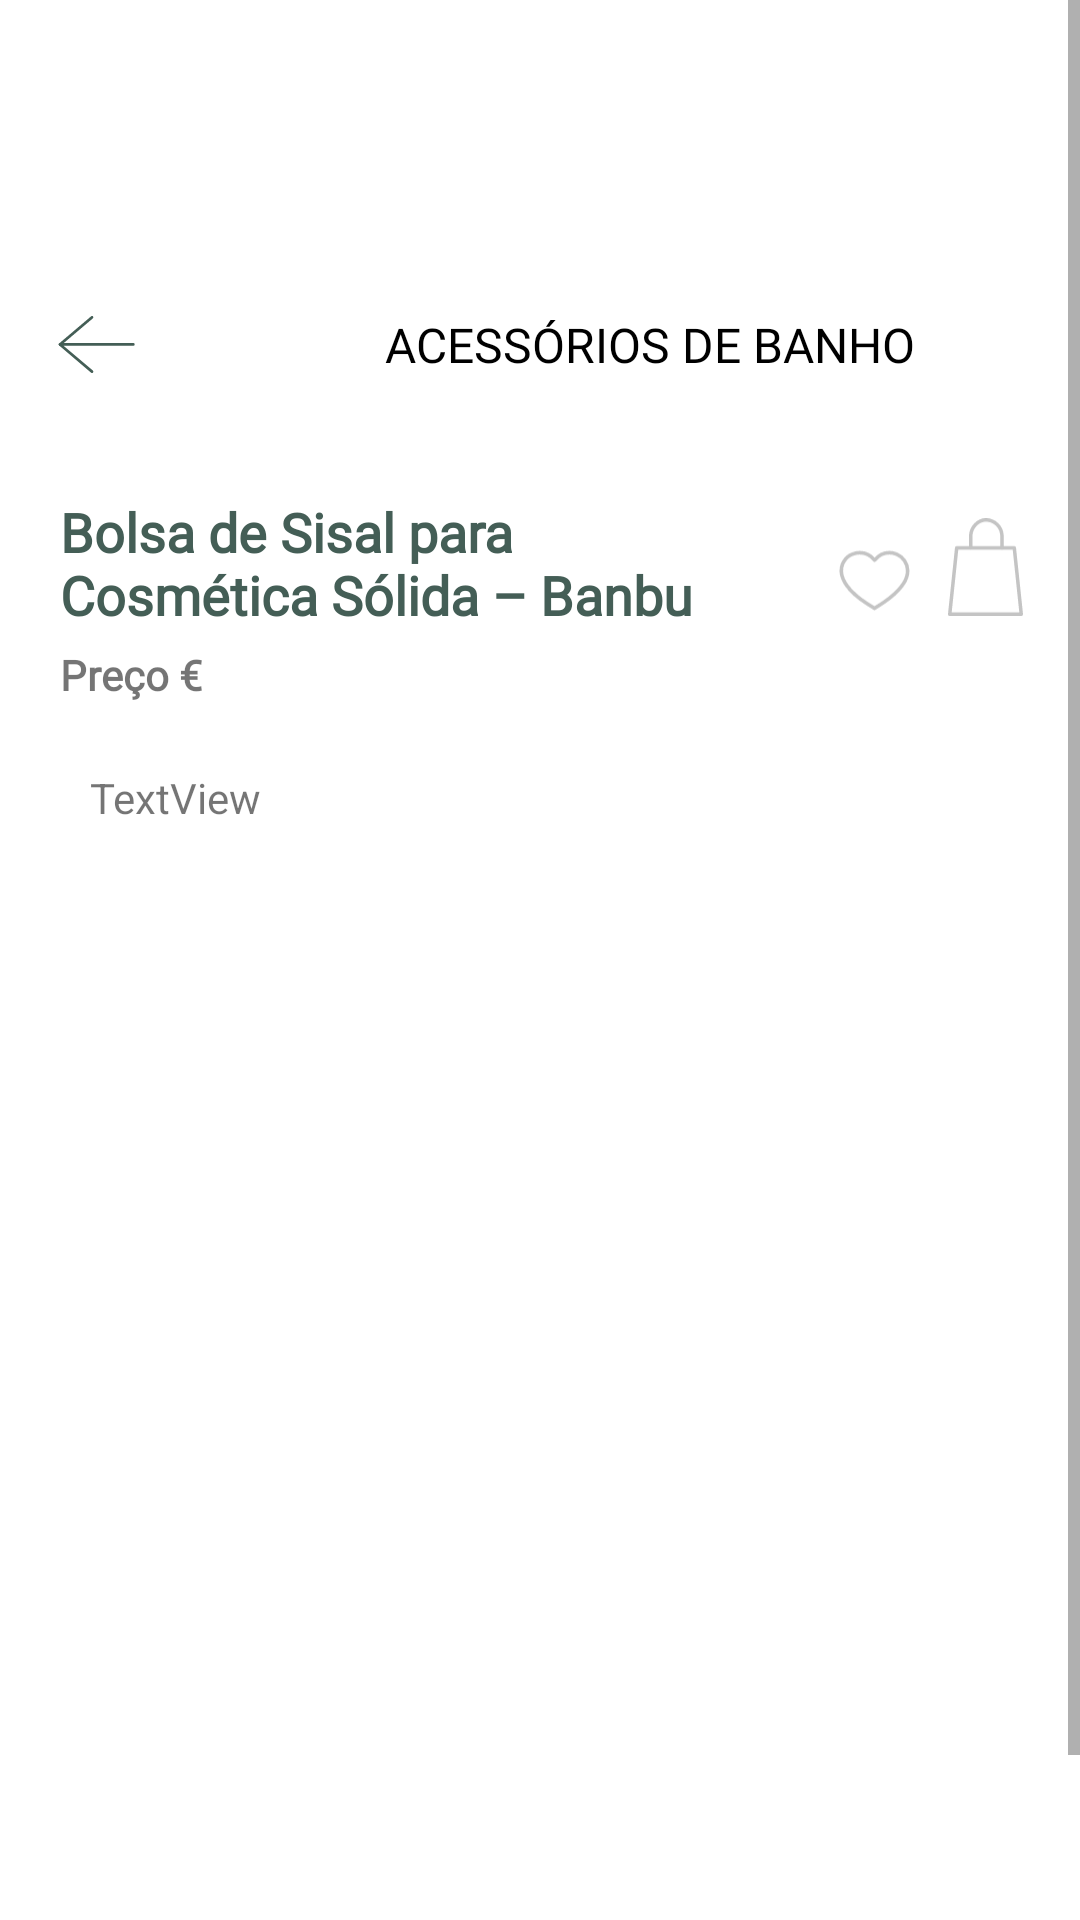

Icons on this 1080 x 1920 Android screen, each with the point to tap as [x,y]:
carrinho: [985,567]
favorito: [874,580]
seta: [96,344]
